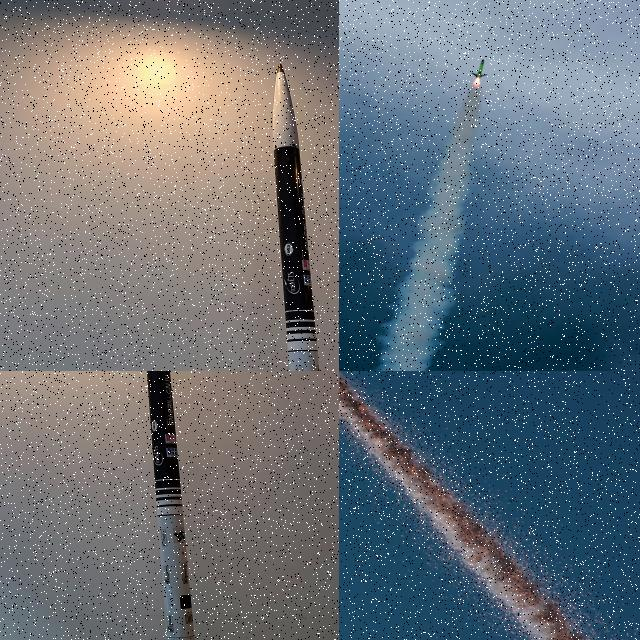Rocket: (272, 63, 320, 371), (146, 371, 195, 640), (471, 59, 488, 79)
